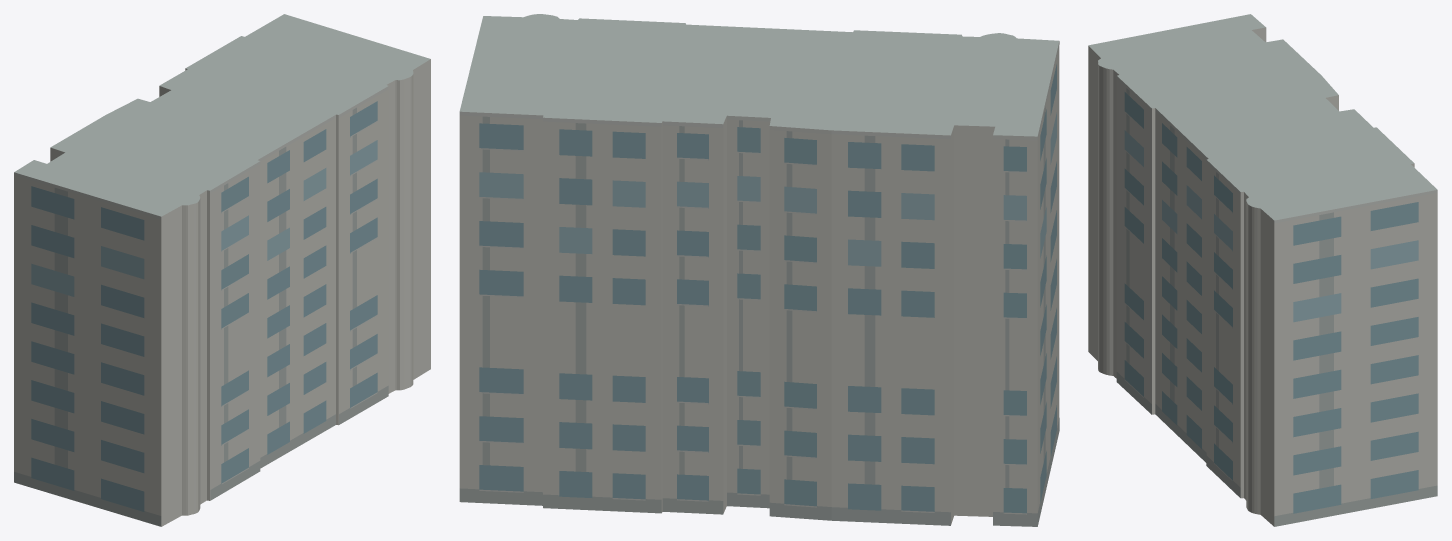
Rendered from survey-upis-32839094.glb.
3 views of the same model, side by side, from view 1: azimuth 30°, elevation 25°; view 2: azimuth 150°, elevation 25°; view 3: azimuth 270°, elevation 25° (orthographic). The views are drawn at different scales.
Visible parts, largest first — view 1: survey-upis-32839094.tmp; view 2: survey-upis-32839094.tmp; view 3: survey-upis-32839094.tmp.
Part boxes in pixels (x1,y1,x2,y2): survey-upis-32839094.tmp: [14, 14, 430, 526]; survey-upis-32839094.tmp: [459, 14, 1059, 526]; survey-upis-32839094.tmp: [1088, 14, 1437, 526].
Bounding box in the file's own units: 35.59 × 24.6 × 25.44.
